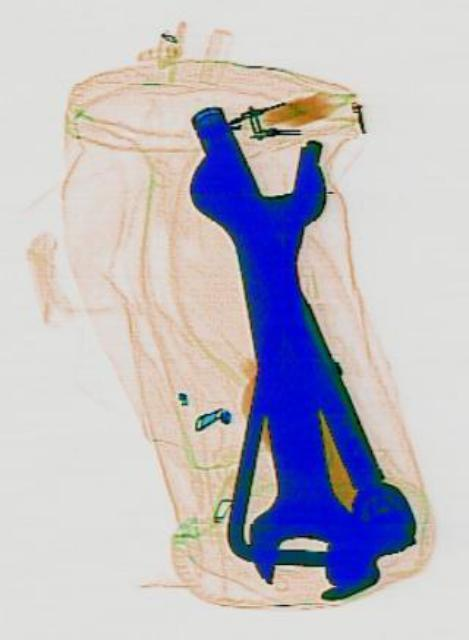Wrench: (181, 124, 382, 606)
